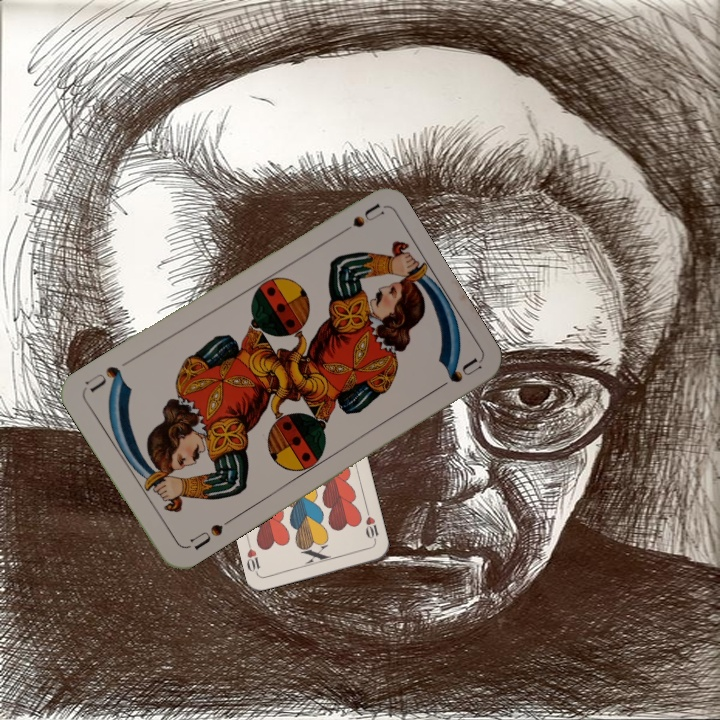H10: (361, 506, 381, 546)
SU: (330, 200, 385, 241), (186, 514, 235, 553)
